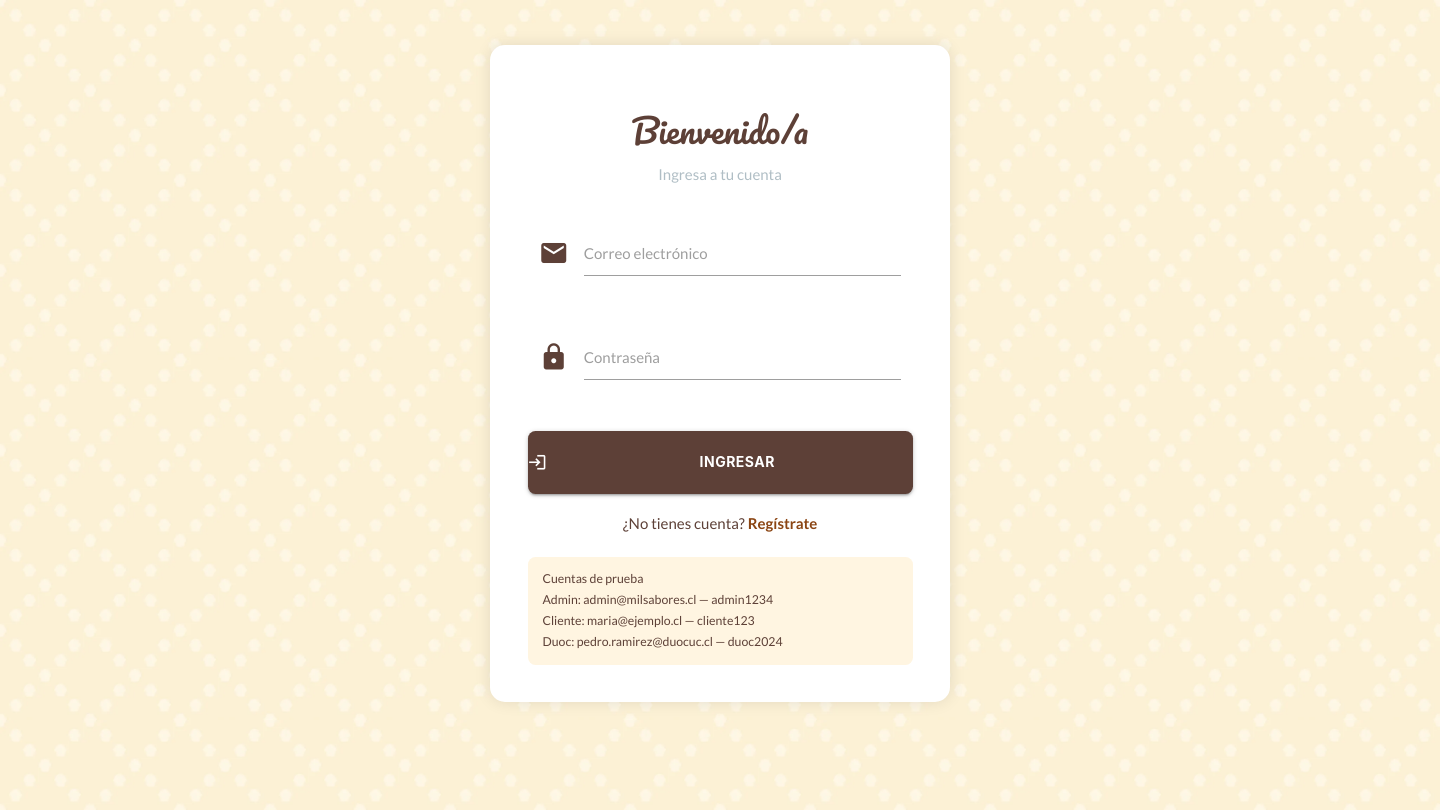
Test: Página de Login › muestra mensaje de error con credenciales incorrectas
The width and height of the screenshot is (1440, 810).
Type "falso@a.cl" into the field labelled "Correo electrónico" at (743, 254), box [584, 230, 901, 276]
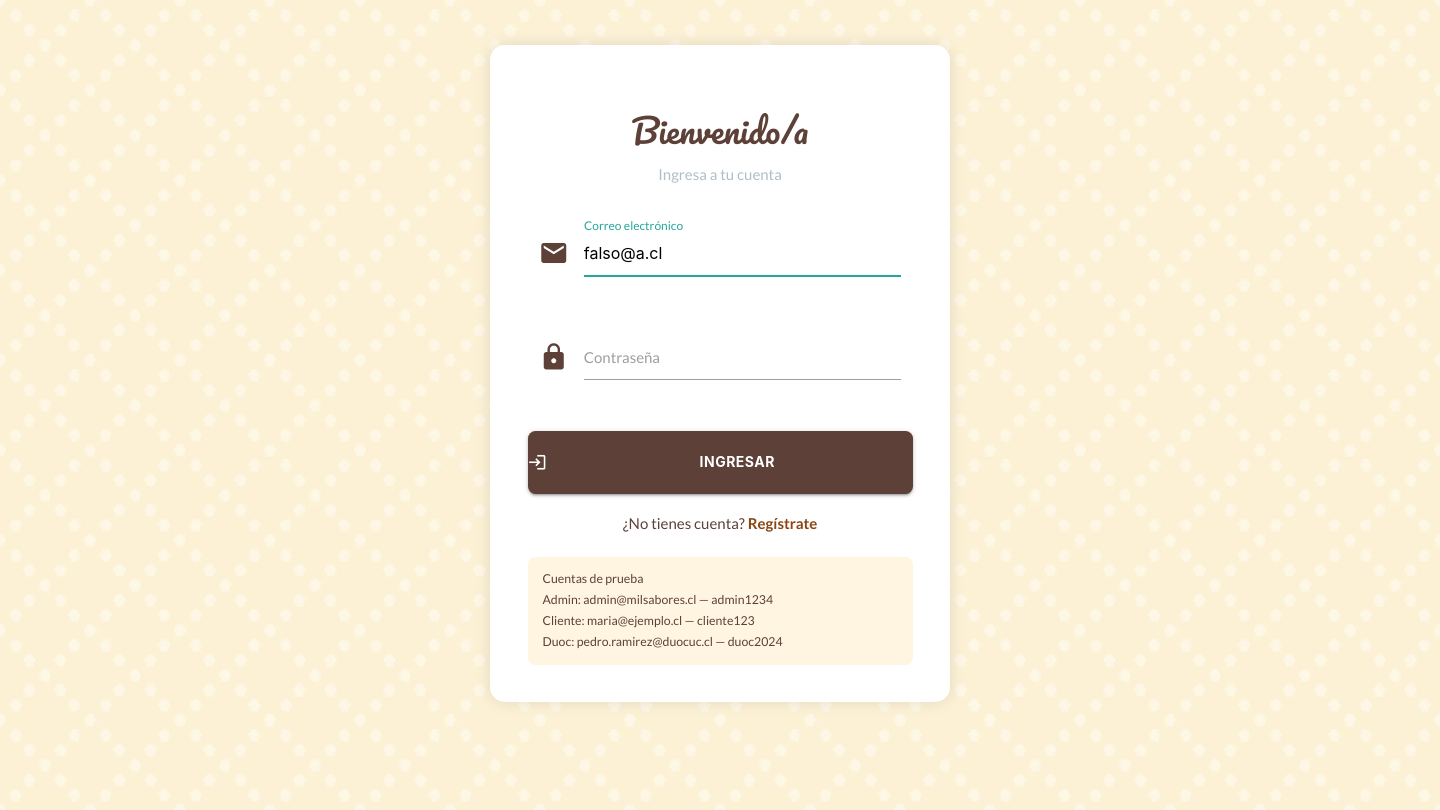
Type "123" into the password field labelled "Contraseña" at (743, 358), box [584, 334, 901, 380]
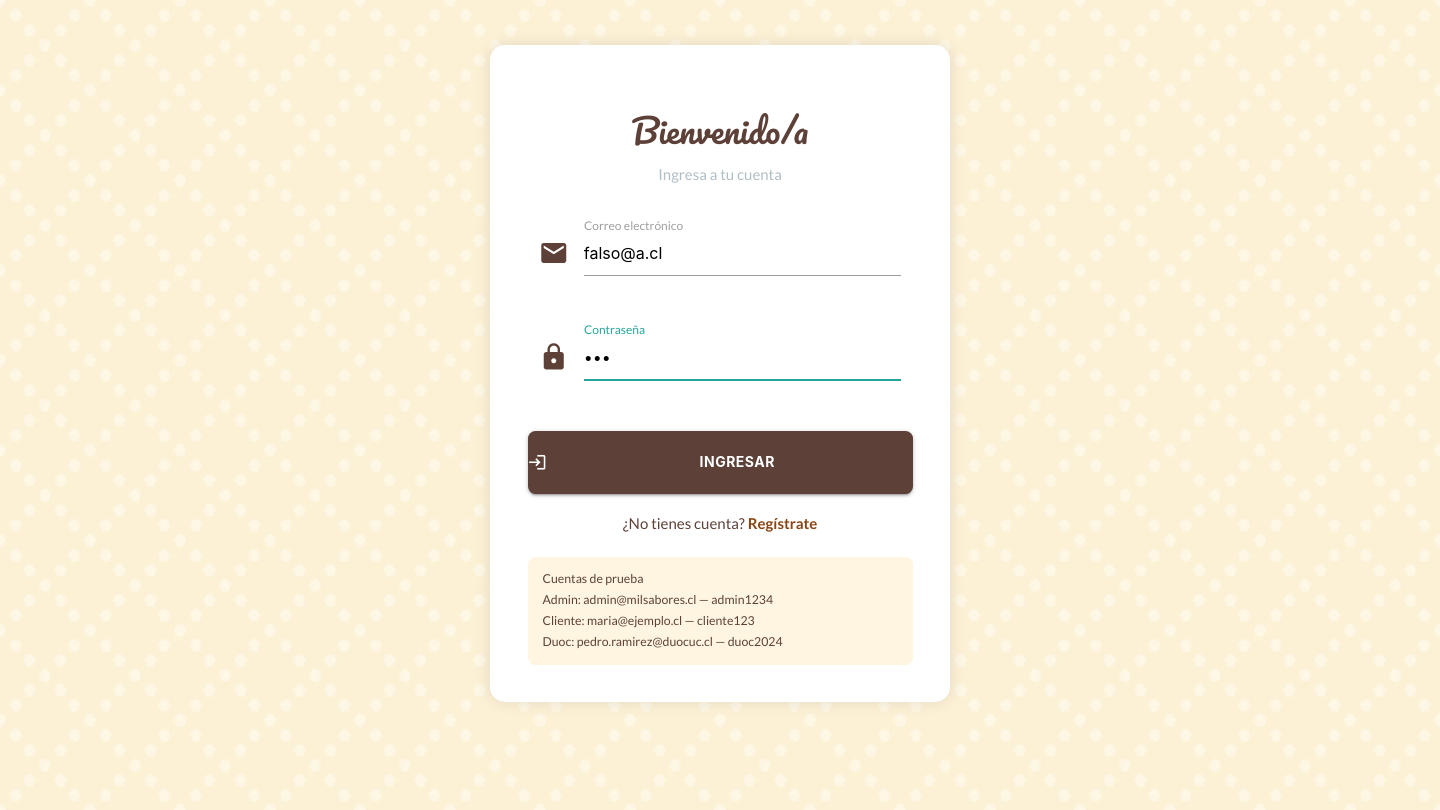
Click the button "Ingresar" at (720, 462), box [528, 431, 912, 494]
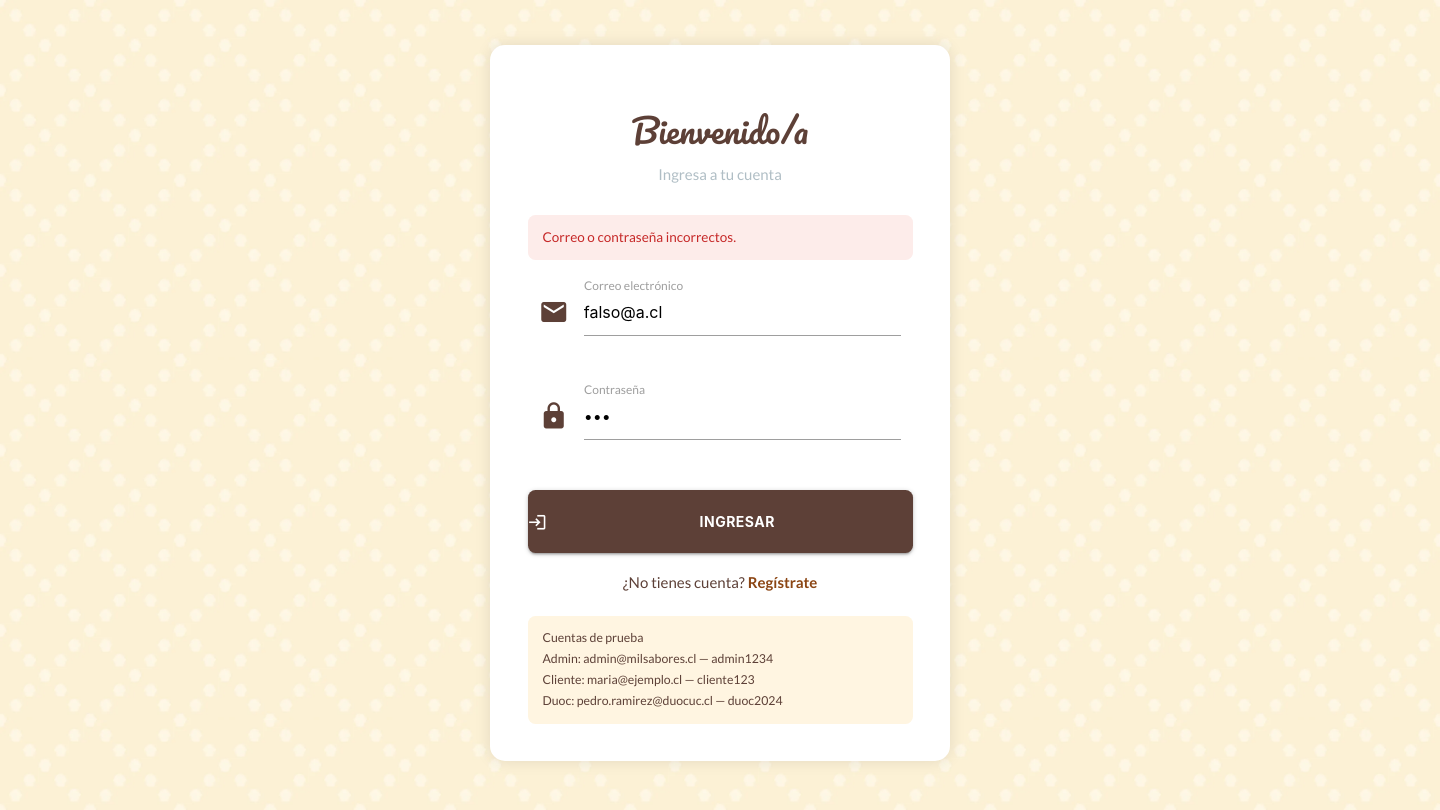
Expected: the text "Correo o contraseña incorrectos." is shown, [528, 216, 912, 260]
